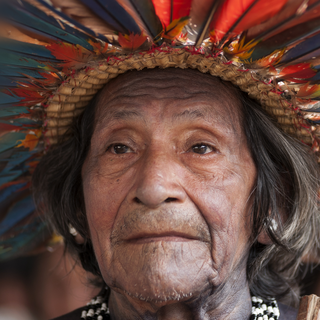eye: (173, 132, 227, 163), (96, 133, 148, 160)
